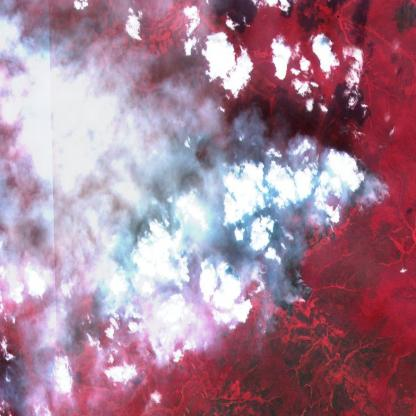fire: (118, 121, 396, 330)
